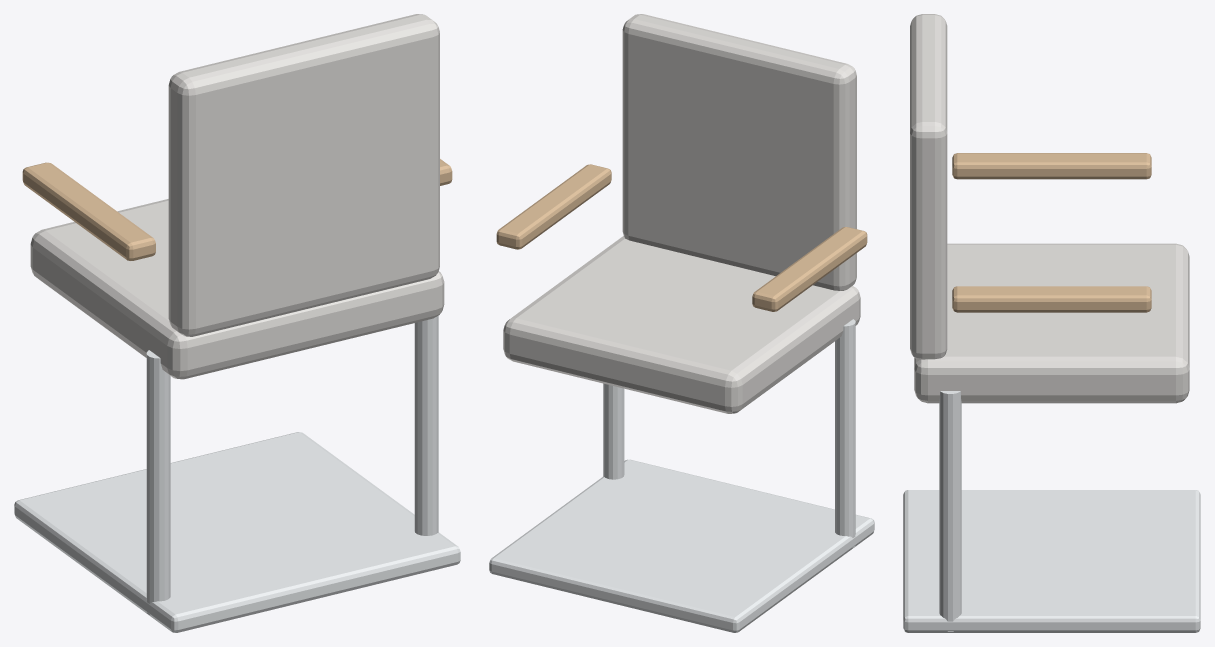
File: modern_office_kitchenette_asset_board_21.glb
3 renders of one model, left to right at view 1: azimuth 30°, elevation 25°; view 2: azimuth 150°, elevation 25°; view 3: azimuth 270°, elevation 25°, orthographic. The views are drawn at different scales.
Visible parts, largest first — view 1: Cube; view 2: Cube; view 3: Cube.
Boxes of the visible parts, bbox=[...] form: Cube: bbox=[14, 14, 460, 632]; Cube: bbox=[489, 14, 874, 632]; Cube: bbox=[903, 14, 1200, 632].
Bounding box in the file's own units: 0.554 × 0.885 × 0.4756.
